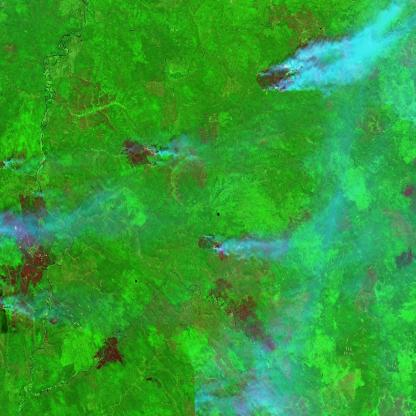fire: (254, 57, 298, 95), (139, 137, 163, 170), (195, 231, 227, 255), (0, 291, 12, 317), (0, 155, 10, 177), (28, 186, 40, 204)
